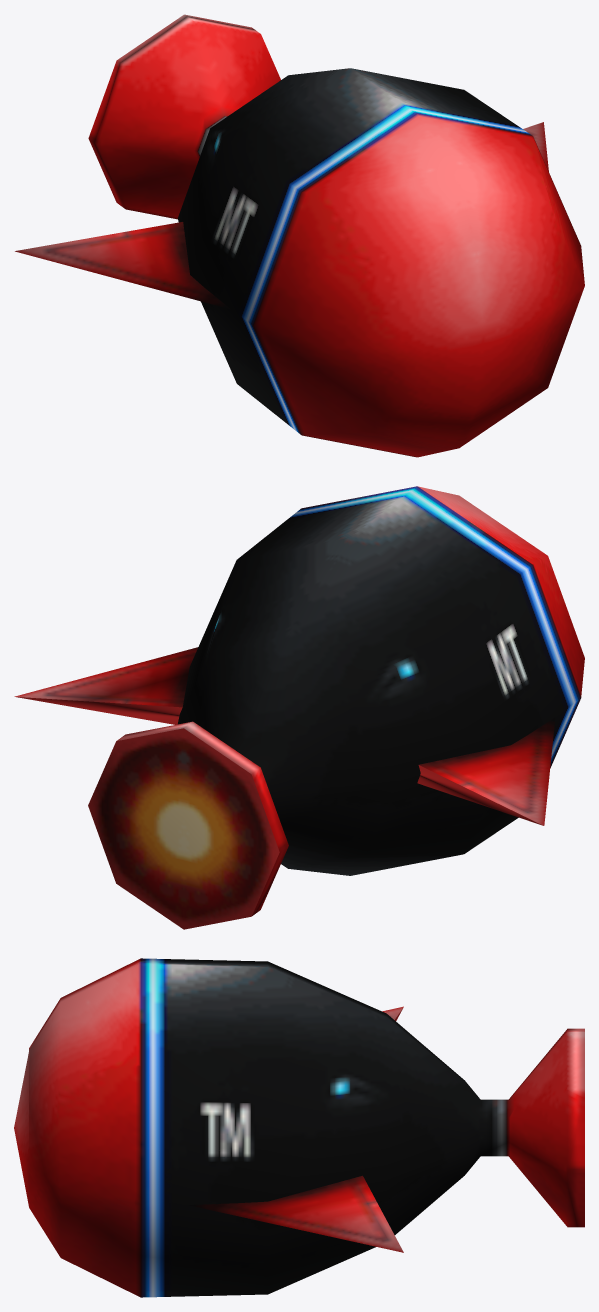
File: feidan 1.fbx
3 renders of one model, top to bottom at view 1: azimuth 30°, elevation 25°; view 2: azimuth 150°, elevation 25°; view 3: azimuth 270°, elevation 25°, orthographic. The views are drawn at different scales.
Parts seen in each view (by area): view 1: feidan2; view 2: feidan2; view 3: feidan2.
Boxes of the visible parts, x1,y1,x2,y2 form: feidan2: [15, 14, 584, 457]; feidan2: [14, 486, 584, 929]; feidan2: [14, 958, 584, 1297].
Bounding box in the file's own units: 153 × 94.52 × 149.
